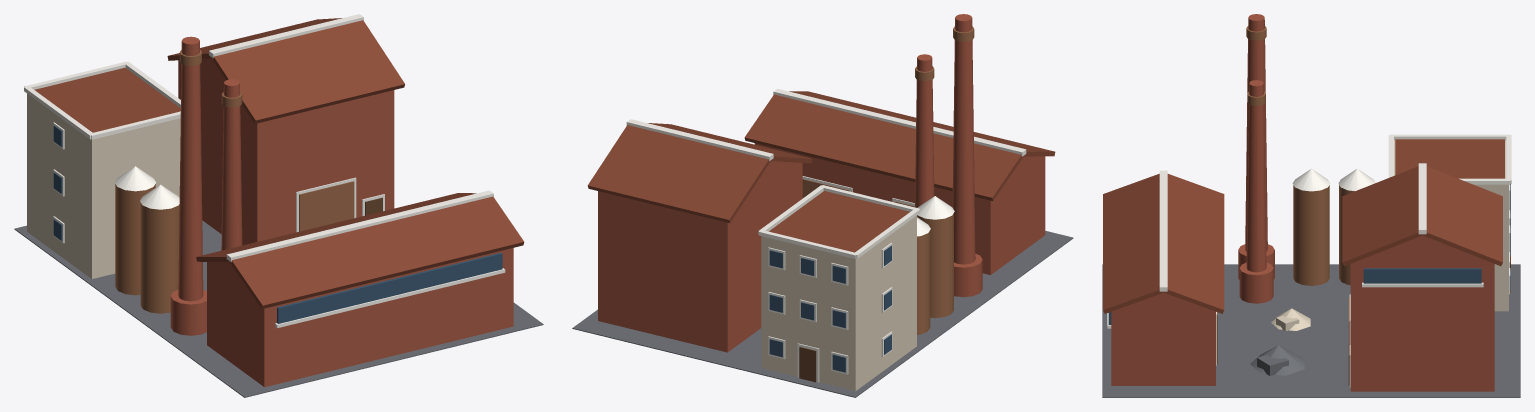
The picture shows the model from 3 angles, left to right: view 1: azimuth 30°, elevation 25°; view 2: azimuth 150°, elevation 25°; view 3: azimuth 270°, elevation 25°; orthographic projection. The views are drawn at different scales.
Visible parts, largest first — view 1: roof (×5), hall_long, hall_main, office, smoke_stack (×2), yard, silo (×2), window_band, ridge (×2), parapet (×4), garage_door, silo_top (×2) (+3 smaller); view 2: roof (×5), hall_main, office, hall_long, yard, smoke_stack (×2), silo (×2), ridge (×2), parapet (×4), stack_base, gable, silo_top (+1 smaller); view 3: roof (×5), yard, hall_main, hall_long, smoke_stack (×2), silo (×2), gable (×2), window_band, ridge (×2), heap (×3), stack_base (×2), office (+3 smaller).
Boxes of the visible parts, x1,y1,x2,y2 form: roof (×5): (34,18,524,308); hall_long: (207,248,513,387); hall_main: (178,60,394,245); office: (27,93,180,278); smoke_stack (×2): (178,36,242,301); yard: (14,220,543,397); silo (×2): (115,184,179,313); window_band: (277,252,502,323); ridge (×2): (209,14,493,261); parapet (×4): (24,61,180,139); garage_door: (299,181,354,231); silo_top (×2): (114,166,179,209); roof (×5): (587,91,1055,252); hall_main: (598,163,802,352); office: (761,215,916,390); hall_long: (754,143,1045,274); yard: (572,231,1073,397); smoke_stack (×2): (915,14,975,264); silo (×2): (917,213,953,334); ridge (×2): (626,88,1026,160); parapet (×4): (758,185,919,258); stack_base: (954,253,982,297); gable: (741,161,800,206); silo_top: (917,196,954,219); roof (×5): (1103,139,1504,313); yard: (1102,264,1520,397); hall_main: (1350,261,1494,391); hall_long: (1111,309,1215,385); smoke_stack (×2): (1245,14,1267,272); silo (×2): (1293,185,1354,285); gable (×2): (1119,235,1487,308); window_band: (1363,268,1481,283); ridge (×2): (1159,163,1426,291); heap (×3): (1250,308,1310,375); stack_base (×2): (1238,244,1274,303); office: (1394,140,1508,311).
Bounding box in the file's own units: 24 × 22.07 × 32.
